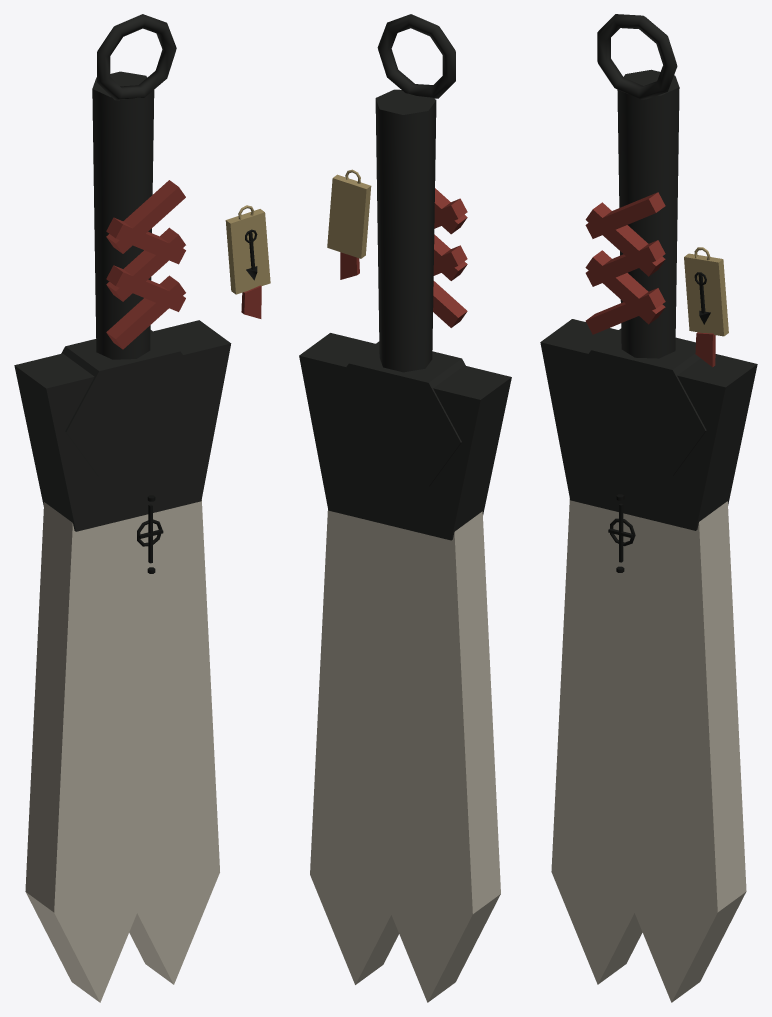
Rendered from fantasy-faceted-split-saber-v1.glb.
3 renders of one model, left to right at view 1: azimuth 30°, elevation 25°; view 2: azimuth 150°, elevation 25°; view 3: azimuth 330°, elevation 25°, orthographic. The views are drawn at different scales.
Visible parts, largest first — view 1: Split Saber; view 2: Split Saber; view 3: Split Saber.
Boxes of the visible parts, bbox=[...] form: Split Saber: bbox=[14, 14, 270, 1002]; Split Saber: bbox=[299, 14, 511, 1002]; Split Saber: bbox=[540, 14, 757, 1002].
Size of the model in its own units: 1.11 by 5.07 by 0.5569.
